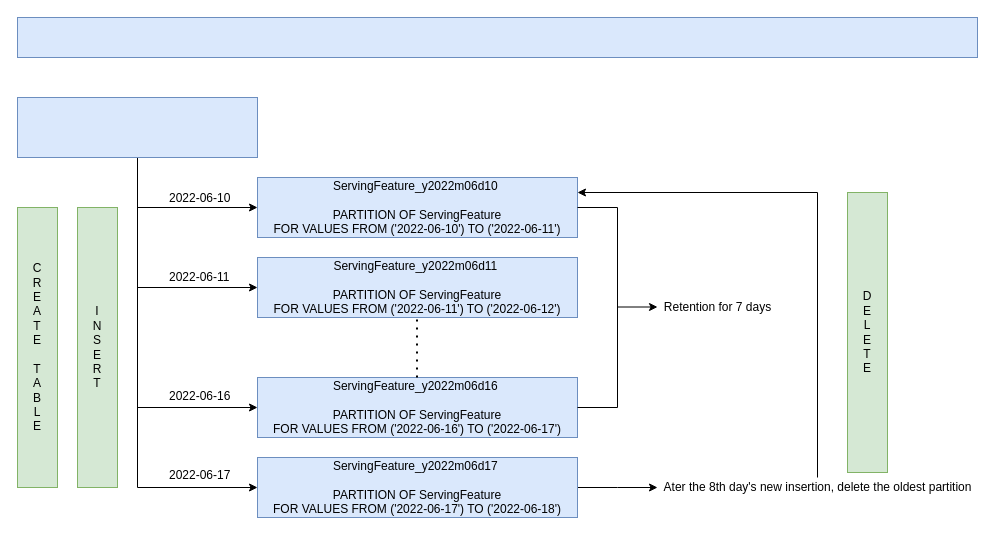
This 995x535 diagram has some shape labels left out. Here are the shapes that lost their labels. From the top down, the centre of each, then its label:
At (x=497, y=37): "Partition By Date".
At (x=137, y=127): "ServingFeature PARTITION BY RANGE (creationDate)".
